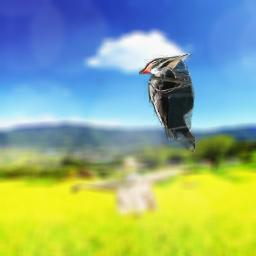Woodpecker: (139, 53, 195, 154)
